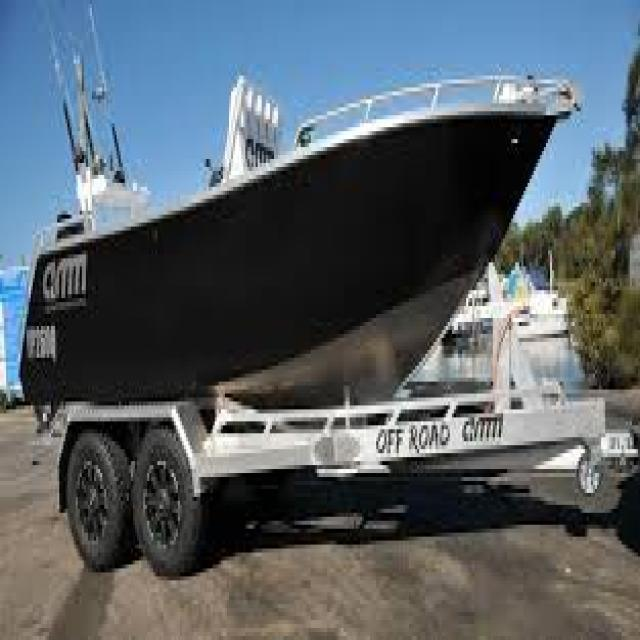ship2: (19, 0, 581, 411)
